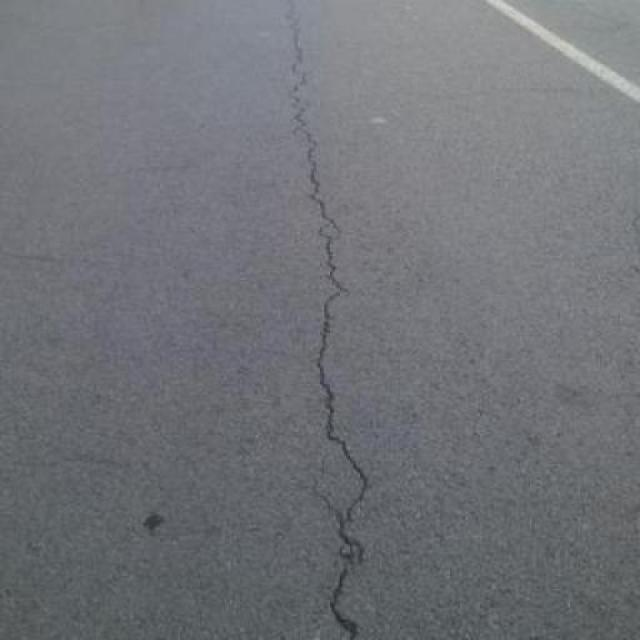Crack: (248, 1, 390, 640)
